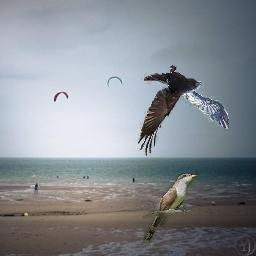Crow: (137, 64, 229, 156)
Cuckoo: (143, 173, 197, 243)
